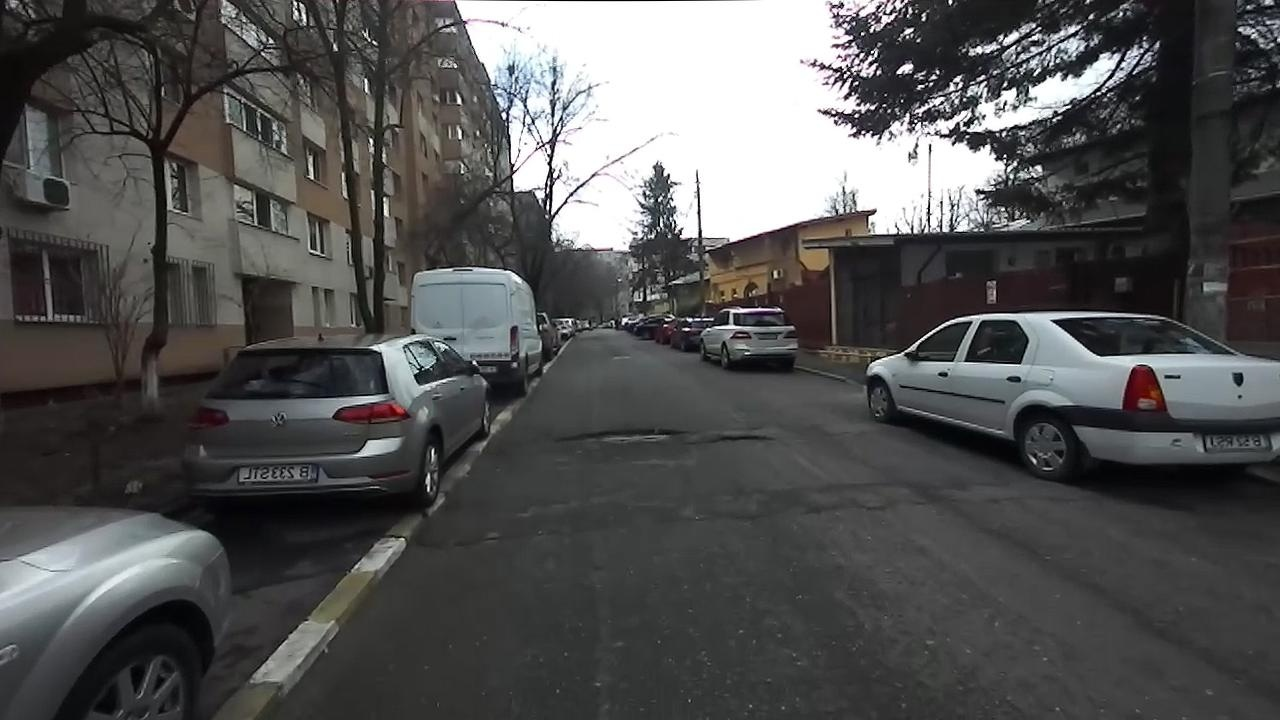pothole: (548, 423, 689, 447), (424, 531, 509, 556), (702, 428, 775, 444)
